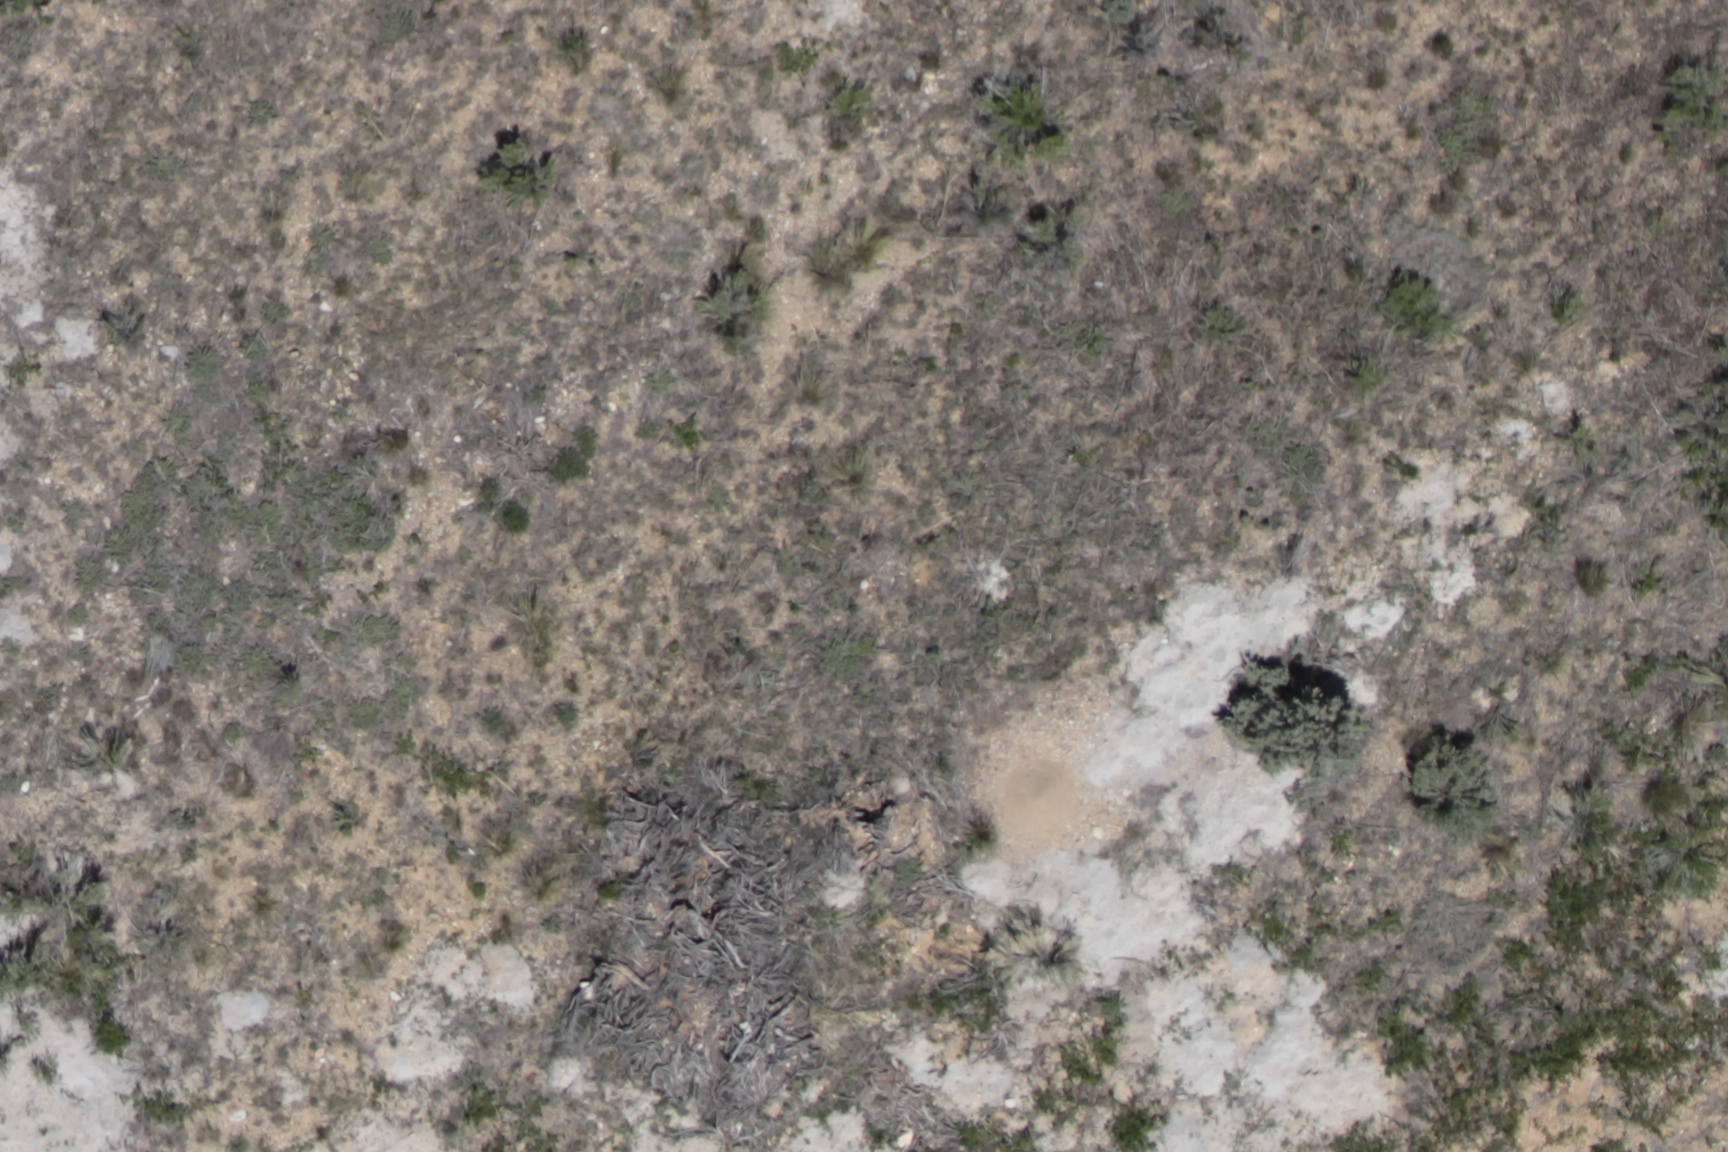burrow: (975, 743, 1092, 855)
